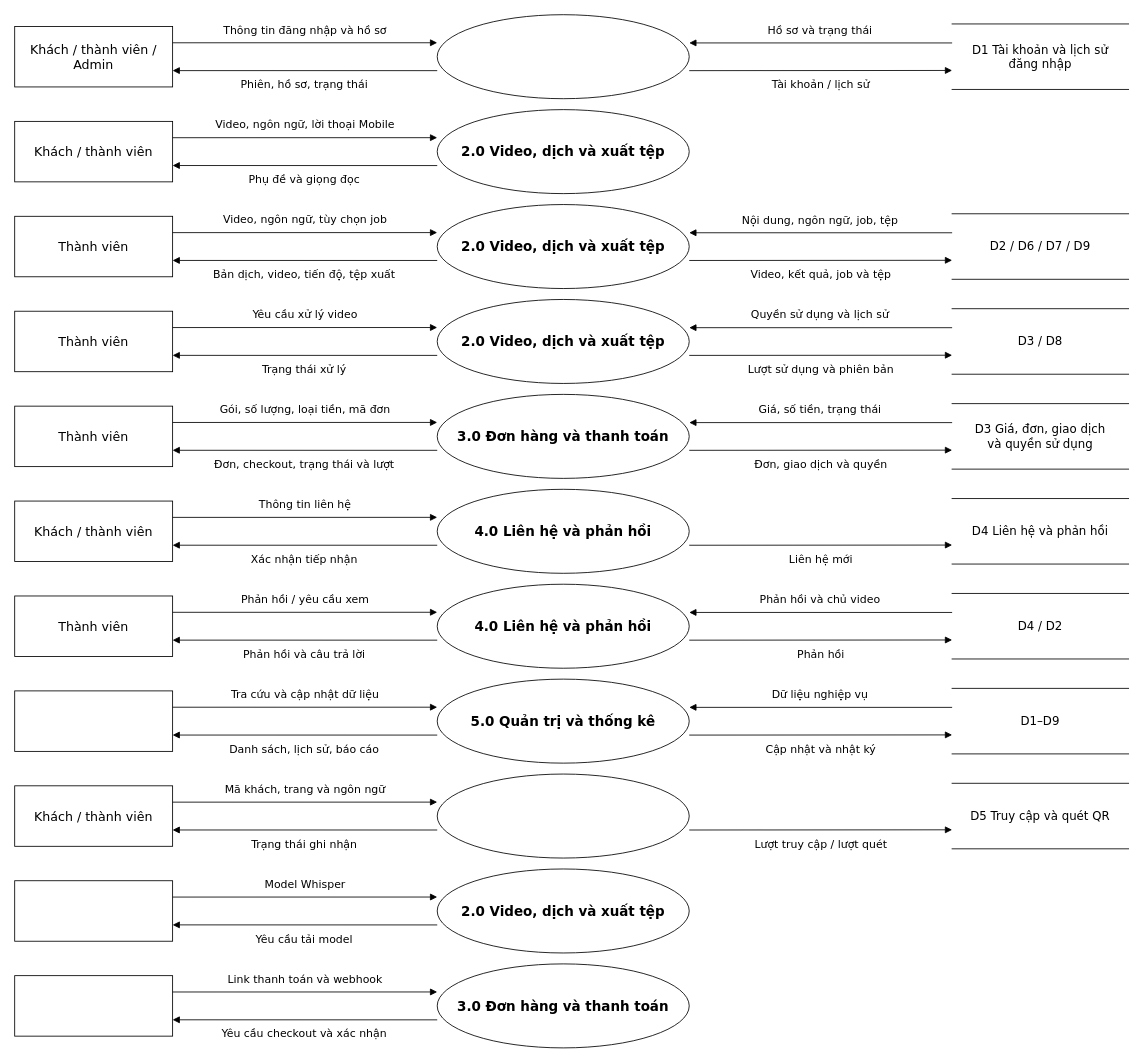
Some shapes in this 1143 by 1063 pixel diagram are drawn without their labels. Each missing label, with the centre of its shape:
1.0 Xác thực và hồ sơ: (562,56)
6.0 Truy cập và QR trải nghiệm: (562,815)
Hugging Face Hub: (93,910)
payOS: (93,1005)
Quản trị viên: (93,720)
